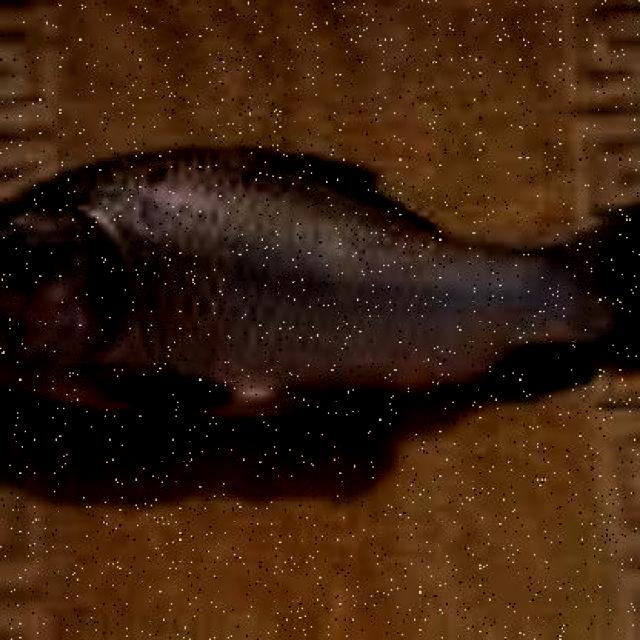ikan-mas: (3, 134, 640, 432)
